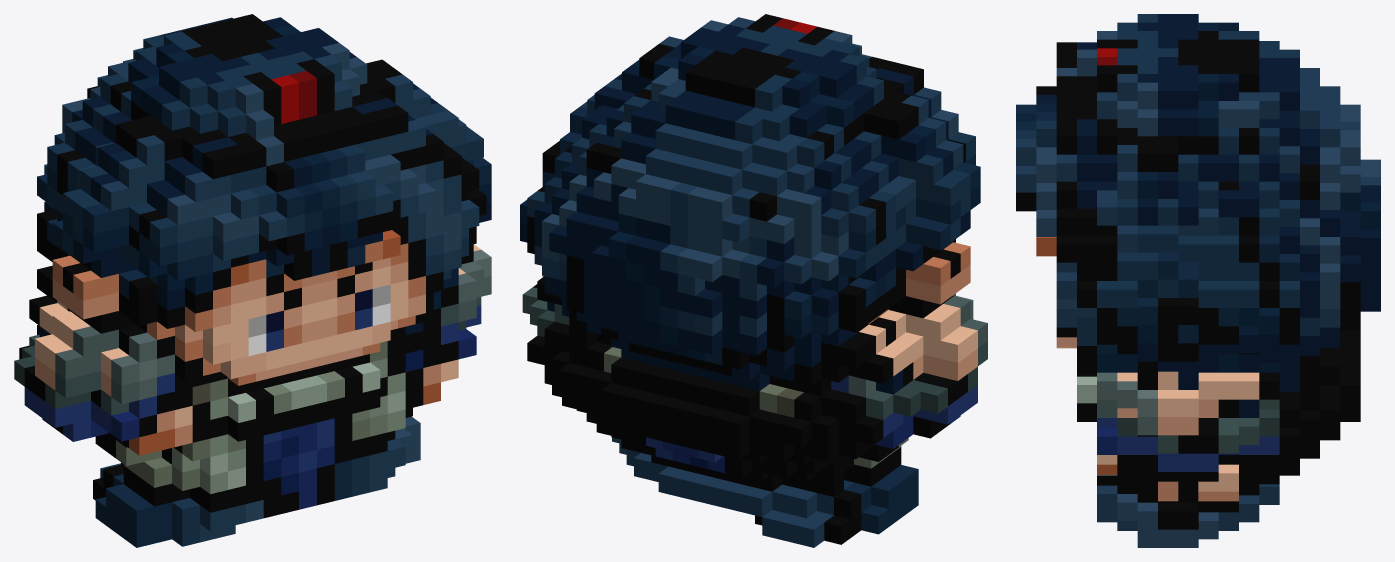
File: Icon_028_03.obj
3 views of the same model, side by side, from view 1: azimuth 30°, elevation 25°; view 2: azimuth 150°, elevation 25°; view 3: azimuth 270°, elevation 25° (orthographic). The views are drawn at different scales.
Bounding box in the file's own units: 2.4 × 2.4 × 1.8.
1 material, 1 textured.
